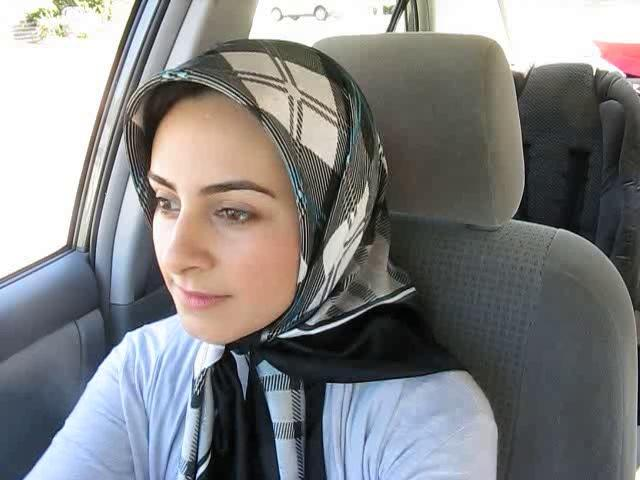no_yawn: (157, 278, 243, 318)
open_eyeL: (144, 184, 184, 221)
open_eyeR: (205, 195, 270, 235)
